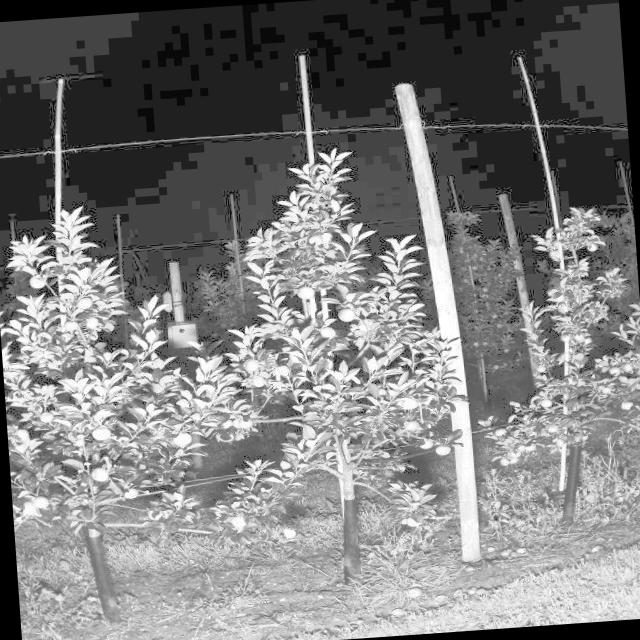Tree: (223, 145, 447, 594), (0, 197, 161, 635), (501, 199, 640, 542)
